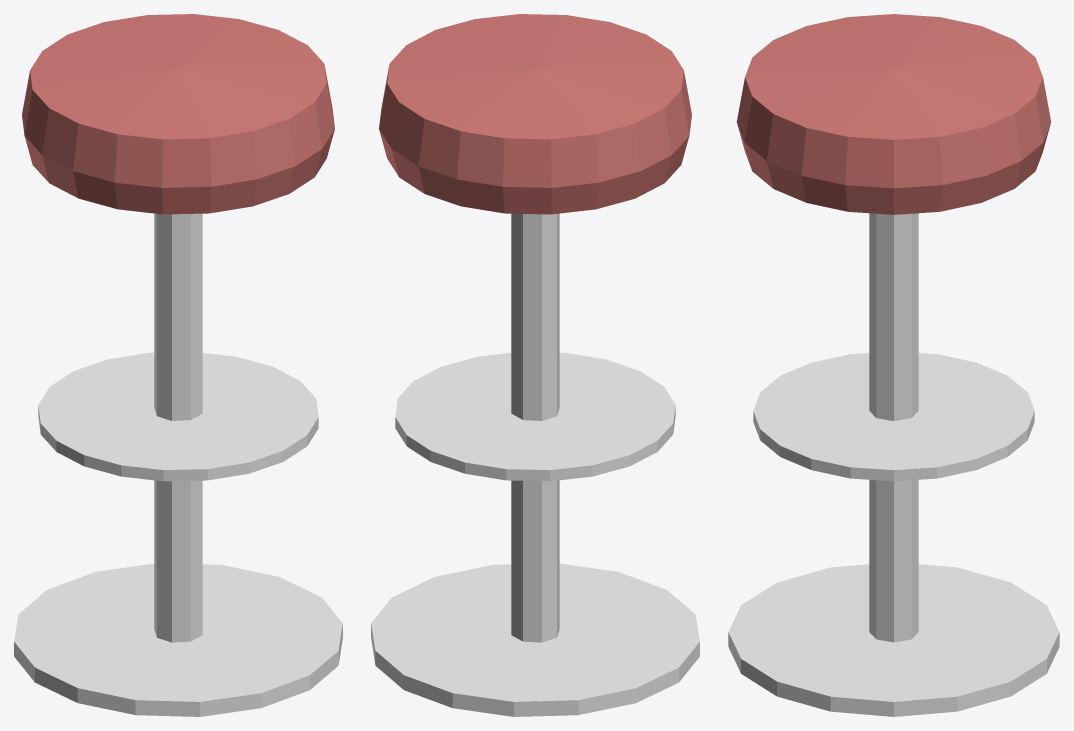
File: stool.glb
The picture shows the model from 3 angles, left to right: view 1: azimuth 30°, elevation 25°; view 2: azimuth 150°, elevation 25°; view 3: azimuth 270°, elevation 25°; orthographic projection.
Parts seen in each view (by area): view 1: stool_chrome, stool_vinyl_r; view 2: stool_chrome, stool_vinyl_r; view 3: stool_chrome, stool_vinyl_r.
Part boxes in pixels (<box>): stool_chrome: <box>14,213,342,716</box>; stool_vinyl_r: <box>22,14,334,214</box>; stool_chrome: <box>371,213,699,716</box>; stool_vinyl_r: <box>379,14,691,214</box>; stool_chrome: <box>728,213,1059,716</box>; stool_vinyl_r: <box>736,14,1051,214</box>.
Size of the model in its own units: 0.4 by 0.77 by 0.4.
